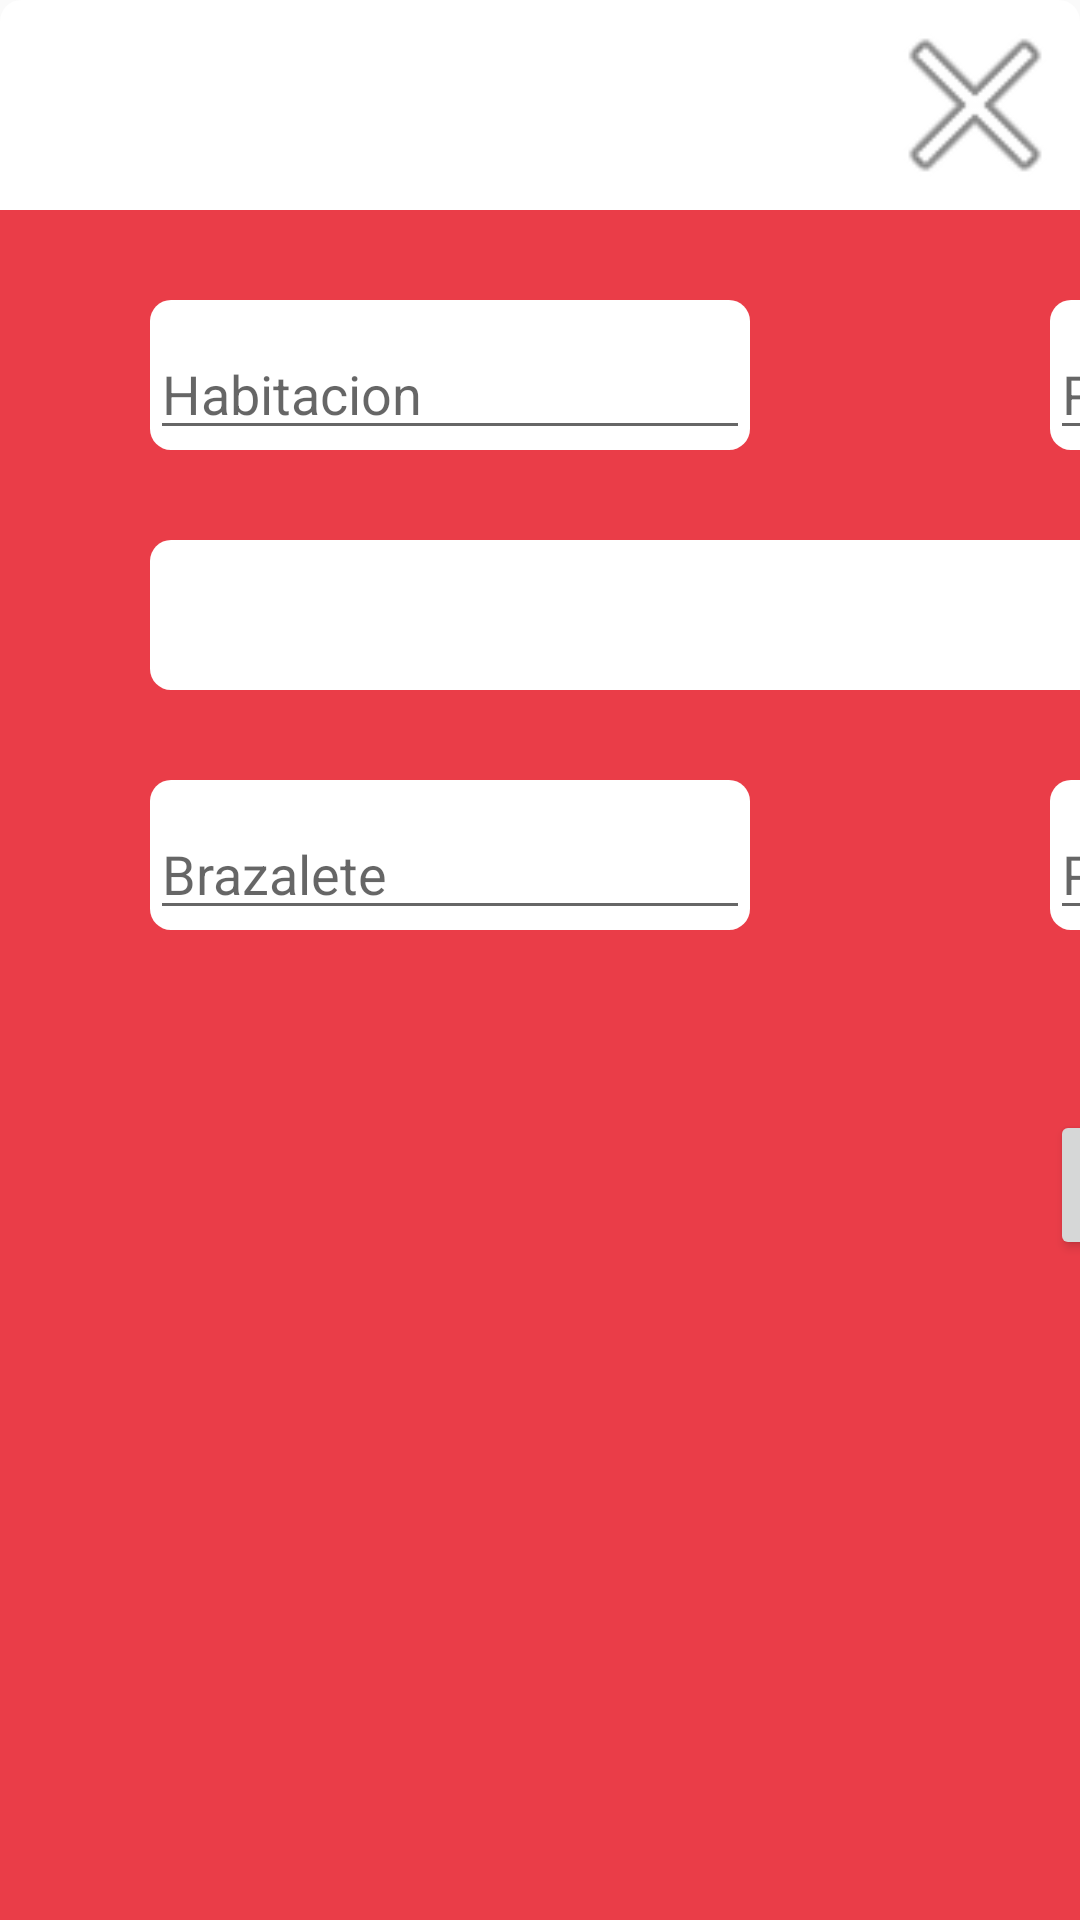

Named icons in this screenshot (1080px×1920px) and their bounding boxes, Rect(x1, y1, x2, y2):
close clear cancel: Rect(909, 39, 1041, 171)
